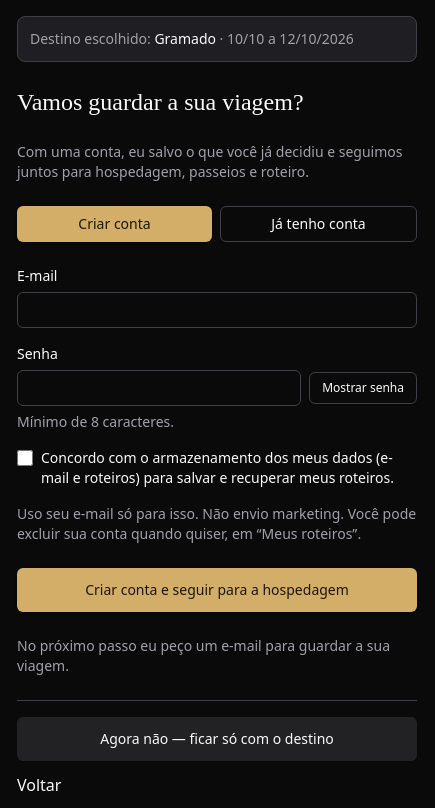
CadastroClient (T-GATE, V2-L7-T04, RF-16) › conta criada mas entrada falhou: troca para o modo entrar com a mensagem do UX-SPEC, sem tentar vincular
This screenshot has width=435, height=808.
Type "viajante@example.com" into the field labelled "E-mail" at (217, 310), box [17,292,417,328]
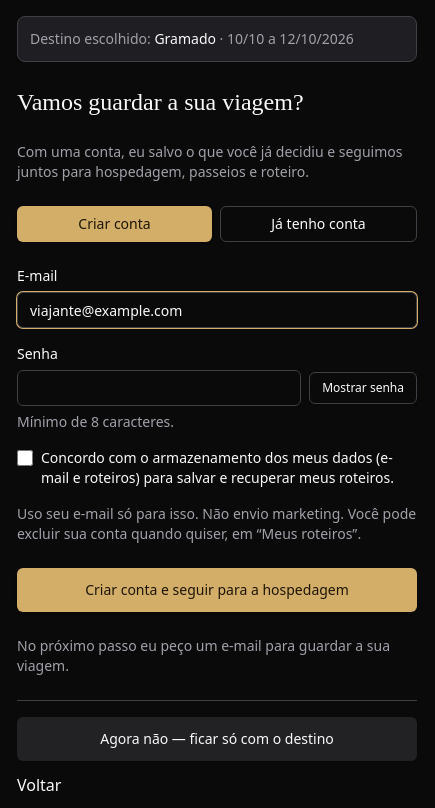
Type "senha-segura-123" into the password field labelled "Senha" at (159, 388), box [17,370,301,406]
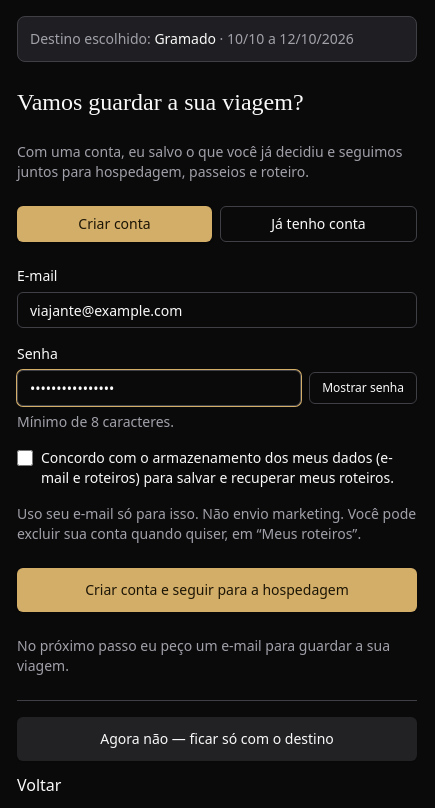
Click the checkbox at (25, 458), box [17,450,33,466]
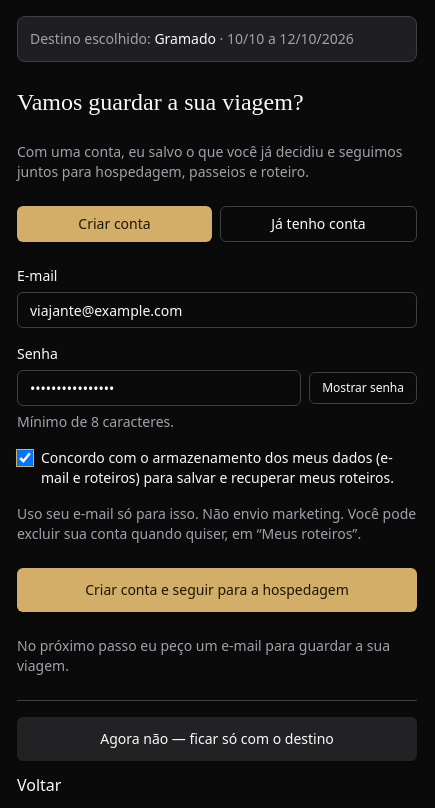
Click the button "Criar conta e seguir para a hospedagem" at (217, 590), box [17,568,417,612]
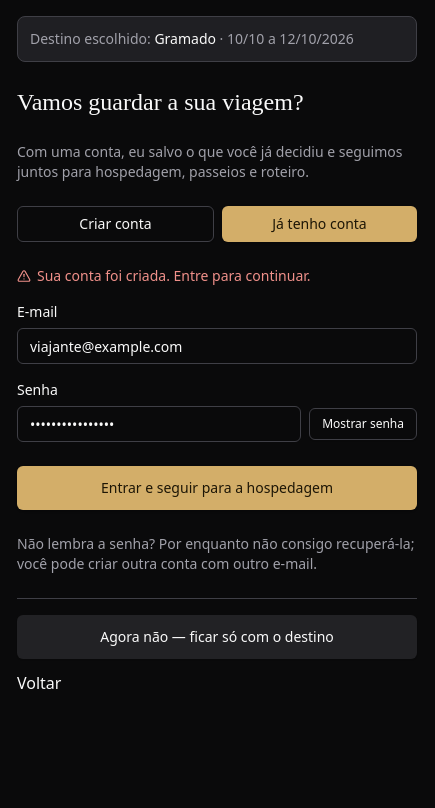
Expected: the text "Sua conta foi criada. Entre para continuar." is shown, [17,266,310,285]
Expected: the button "Entrar e seguir para a hospedagem" is shown, [17,466,417,510]
